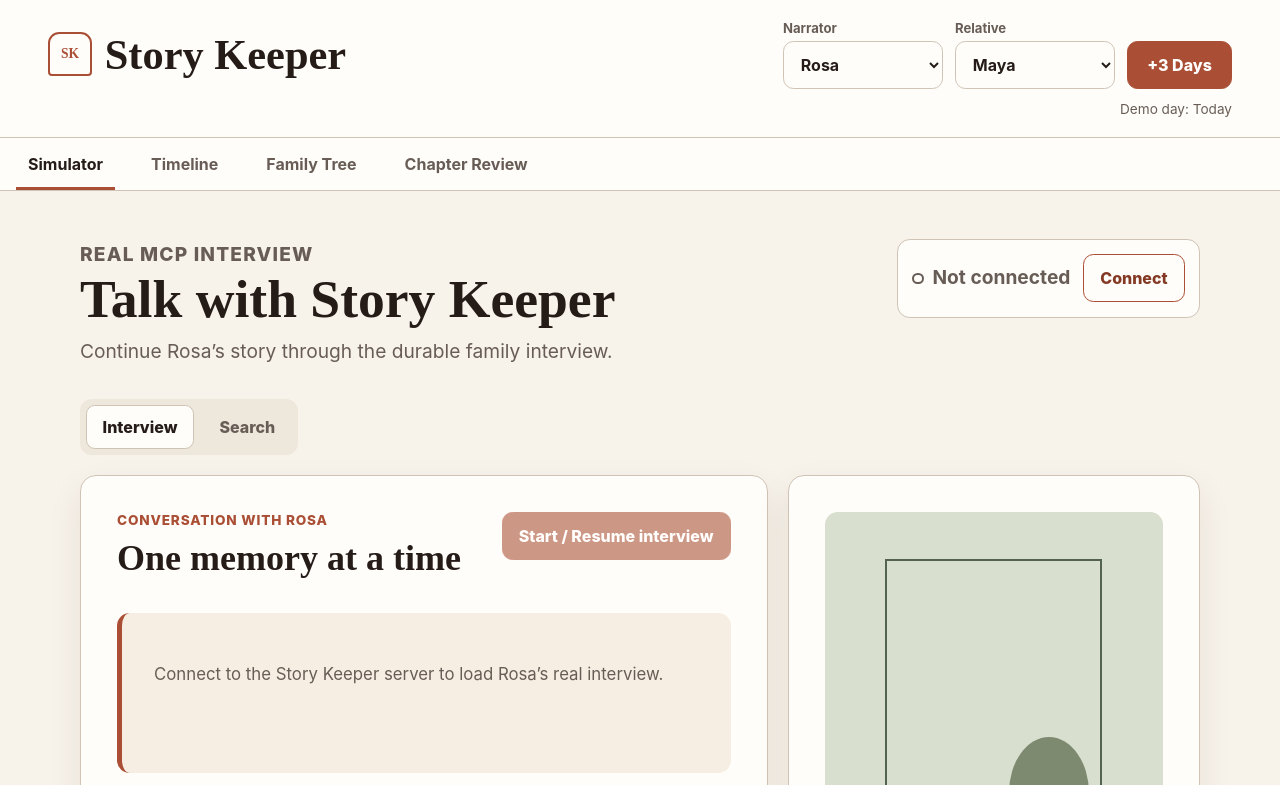
SimulatorApp › shows a controlled connection error with no mock interview fallback
This screenshot has width=1280, height=785.
Click the button "Connect": {"x": 1134, "y": 278} [1083,254,1185,302]
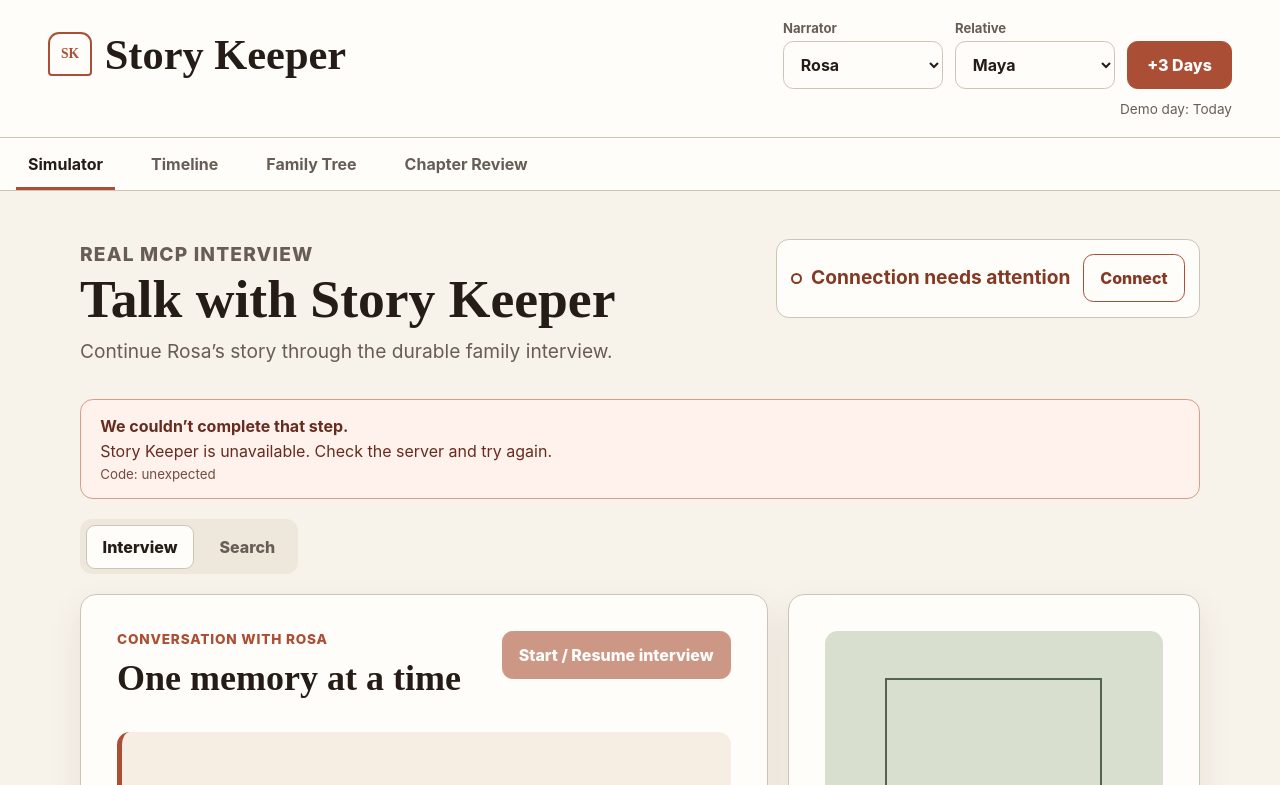
Expected: the button "Start / Resume interview" is disabled, [502,631,730,679]
Result: the message that starts with "We couldn’t complete that step." shows "Story Keeper is unavailable. Check the server and try again." at [100,441,552,461]
